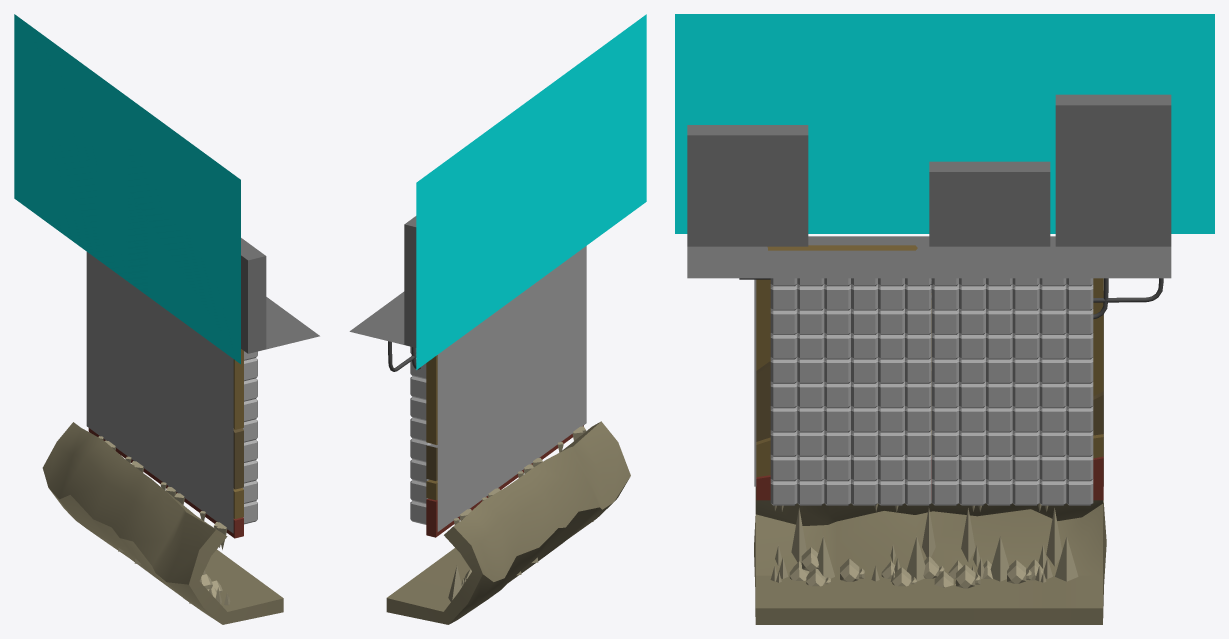
Rendered from steage_1.fbx.
3 views of the same model, side by side, from view 1: azimuth 30°, elevation 25°; view 2: azimuth 150°, elevation 25°; view 3: azimuth 270°, elevation 25° (orthographic). The views are drawn at different scales.
Visible parts, largest first — view 1: pCube43, pCube17, pCylinder1, pPlane1, polySurface6, polySurface5, polySurface1; view 2: pCube43, pCube17, pCylinder1, pPlane1, polySurface6, polySurface1; view 3: pCube43, pPlane1, pCylinder1, polySurface6, polySurface5, pCube17, polySurface1, polySurface3.
Boxes of the visible parts, x1=… form: pCube43: x1=14, y1=14, x2=240, y2=363; pCube17: x1=86, y1=252, x2=233, y2=533; pCylinder1: x1=42, y1=422, x2=283, y2=624; pPlane1: x1=241, y1=238, x2=319, y2=353; polySurface6: x1=233, y1=349, x2=243, y2=429; polySurface5: x1=233, y1=428, x2=243, y2=489; polySurface1: x1=88, y1=428, x2=243, y2=538; pCube43: x1=416, y1=14, x2=646, y2=369; pCube17: x1=437, y1=246, x2=586, y2=531; pCylinder1: x1=386, y1=421, x2=630, y2=624; pPlane1: x1=349, y1=216, x2=416, y2=347; polySurface6: x1=426, y1=355, x2=437, y2=444; polySurface1: x1=426, y1=425, x2=583, y2=537; pCube43: x1=675, y1=14, x2=1214, y2=233; pPlane1: x1=687, y1=94, x2=1171, y2=278; pCylinder1: x1=754, y1=487, x2=1106, y2=624; polySurface6: x1=756, y1=245, x2=1103, y2=396; polySurface5: x1=756, y1=361, x2=1103, y2=441; pCube17: x1=754, y1=243, x2=1103, y2=486; polySurface1: x1=756, y1=456, x2=1103, y2=500; polySurface3: x1=756, y1=430, x2=1103, y2=477.
Size of the model in its own units: 156 by 669 by 577.
